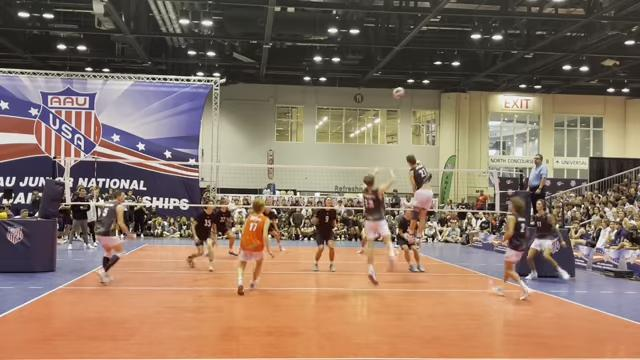Block: (352, 165, 403, 291), (396, 146, 437, 277)
Player: (96, 191, 135, 283), (237, 198, 273, 294), (526, 200, 569, 279), (503, 197, 529, 299), (187, 201, 214, 271), (396, 208, 424, 271), (312, 198, 336, 271), (213, 199, 237, 255), (263, 205, 284, 251), (357, 228, 366, 253)
ball: (394, 88, 405, 101)
